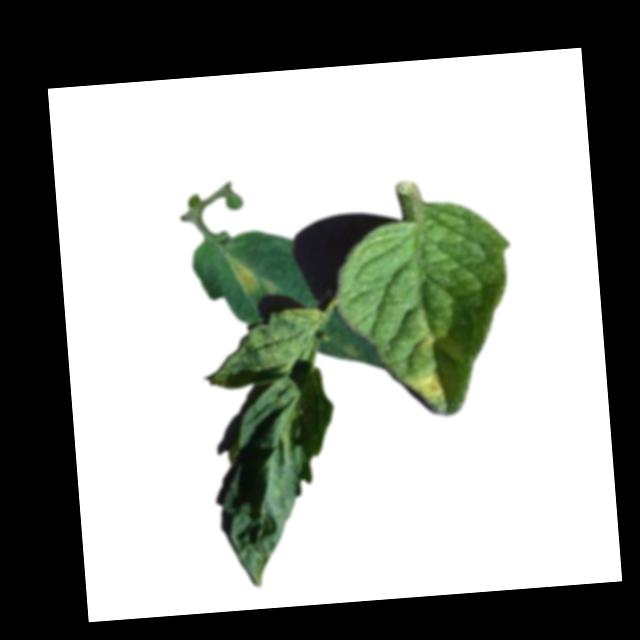Leaf_Mold: (404, 368, 444, 404), (226, 257, 259, 298)
